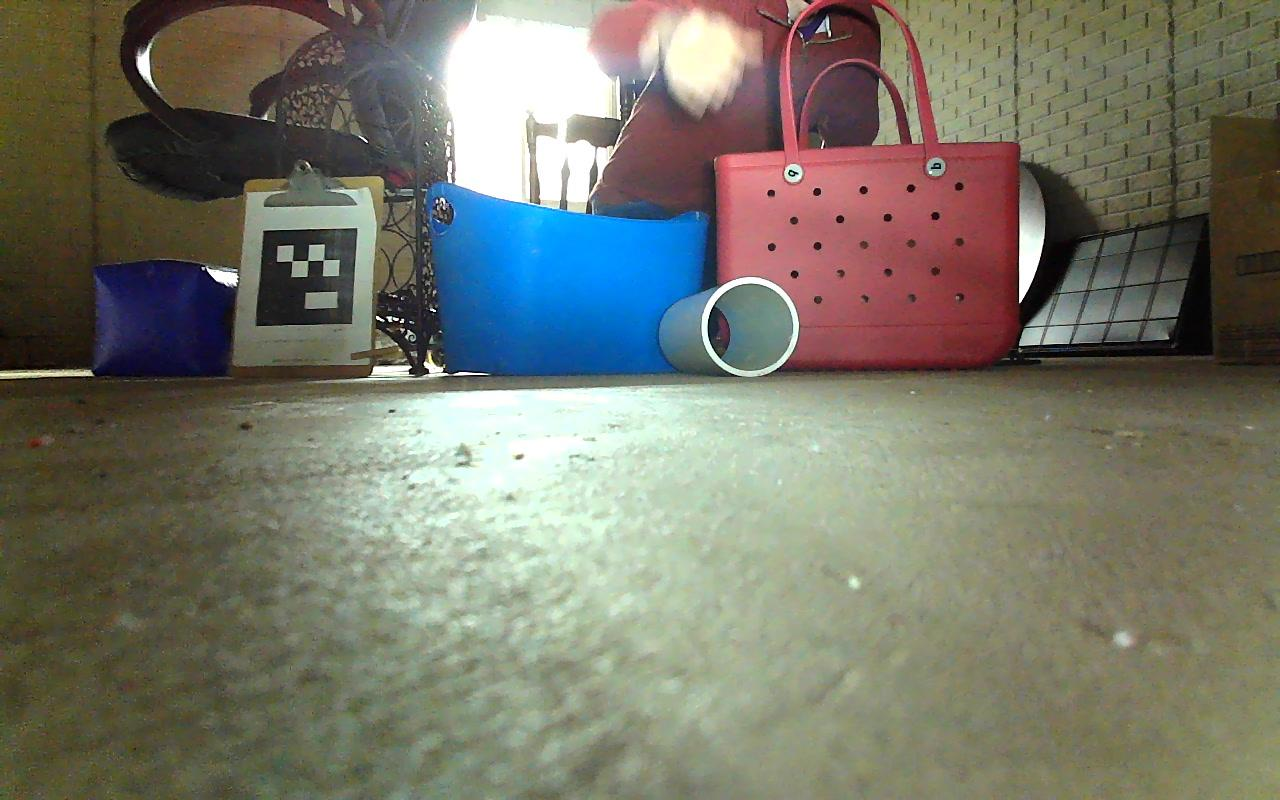coral: (657, 275, 799, 376)
